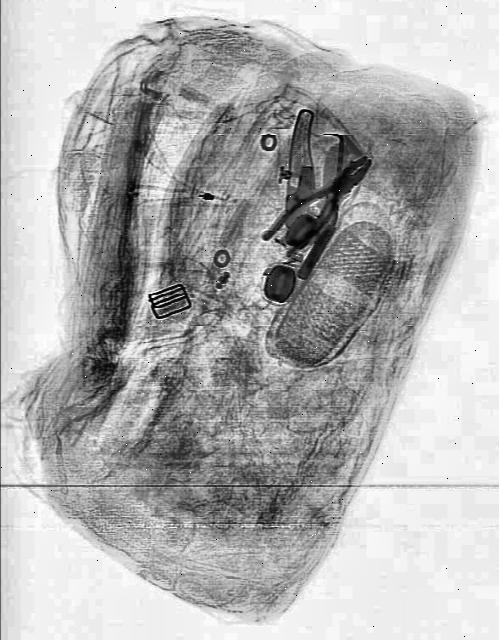Pliers: (260, 143, 380, 269)
